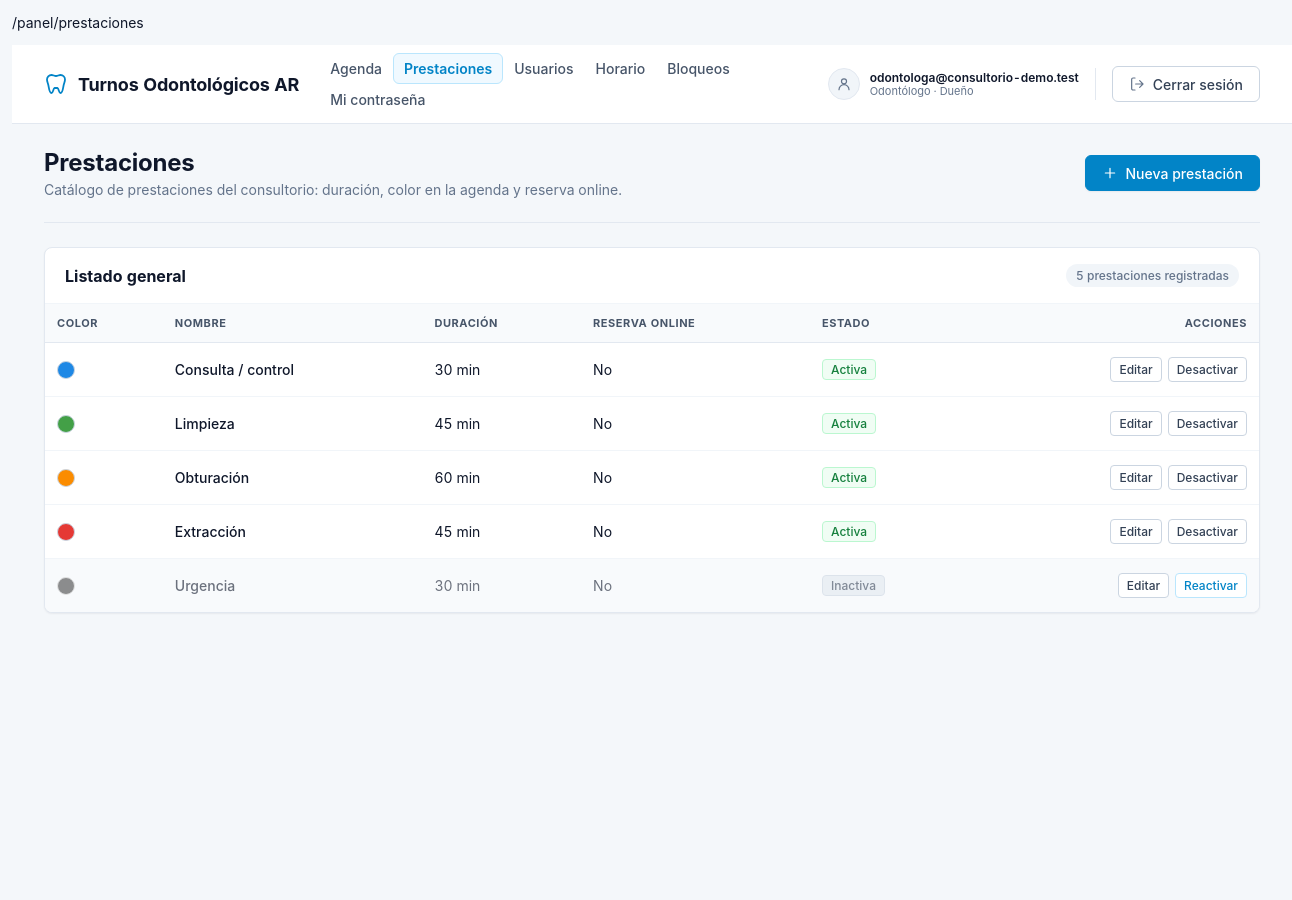
Test: PaginaPrestaciones: alta › US-001 CA-1: alta de Blanqueamiento agrega la fila y cierra el panel
Expected: the table is shown, [45,304,1259,612]
Step 1. Click the button "Nueva prestación" → (1172, 173), box [1084,155,1260,191]
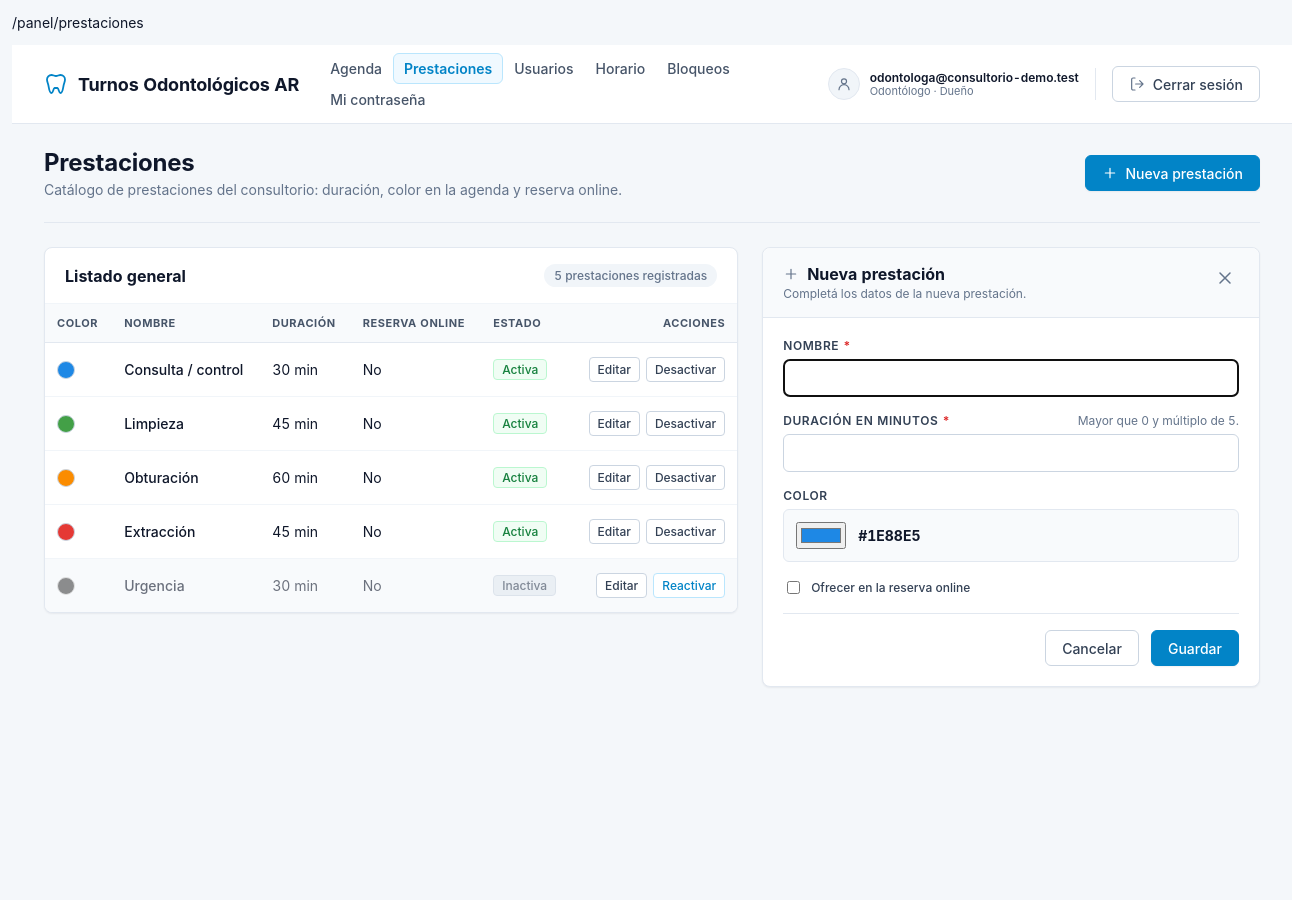
Step 2. Type "Blanqueamiento" into the field labelled "Nombre" → (1011, 378), box [783,359,1239,397]
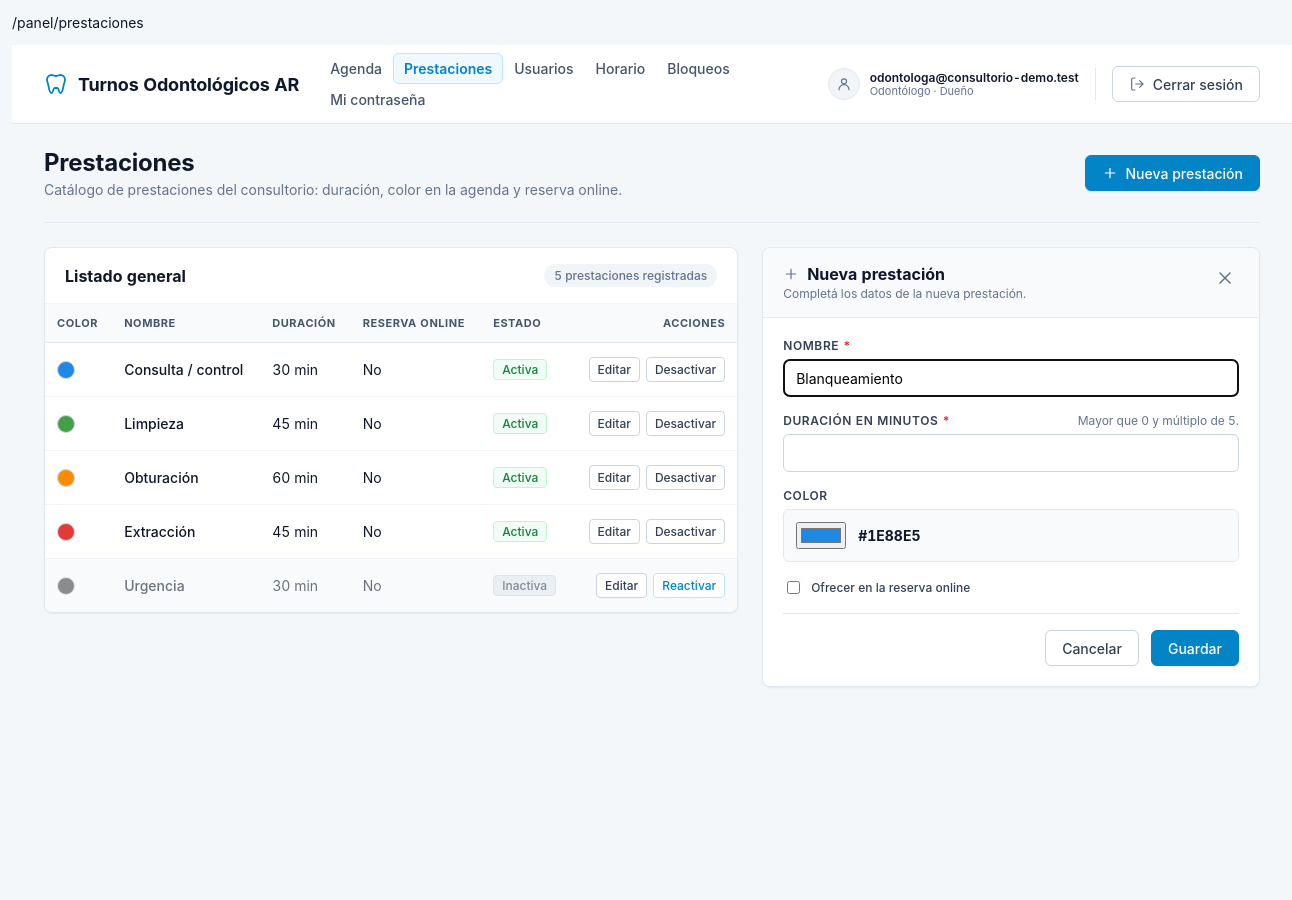
Step 3. Type "60" into the number field labelled "Duración en minutos" → (1011, 453), box [783,434,1239,472]
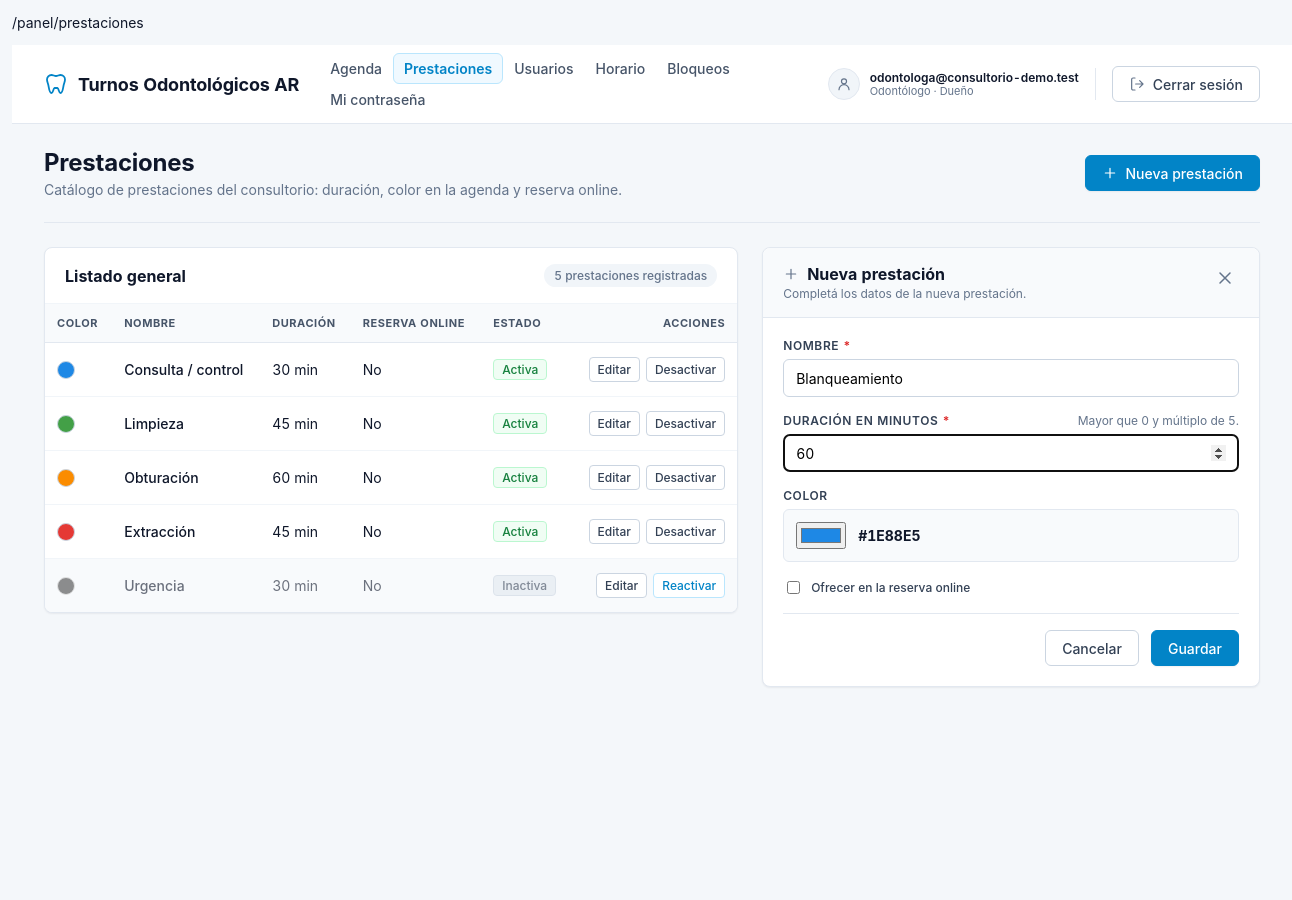
Step 4. Type "#3A7BD5" into the colour field labelled "Color" → (821, 536), box [796,522,846,549]
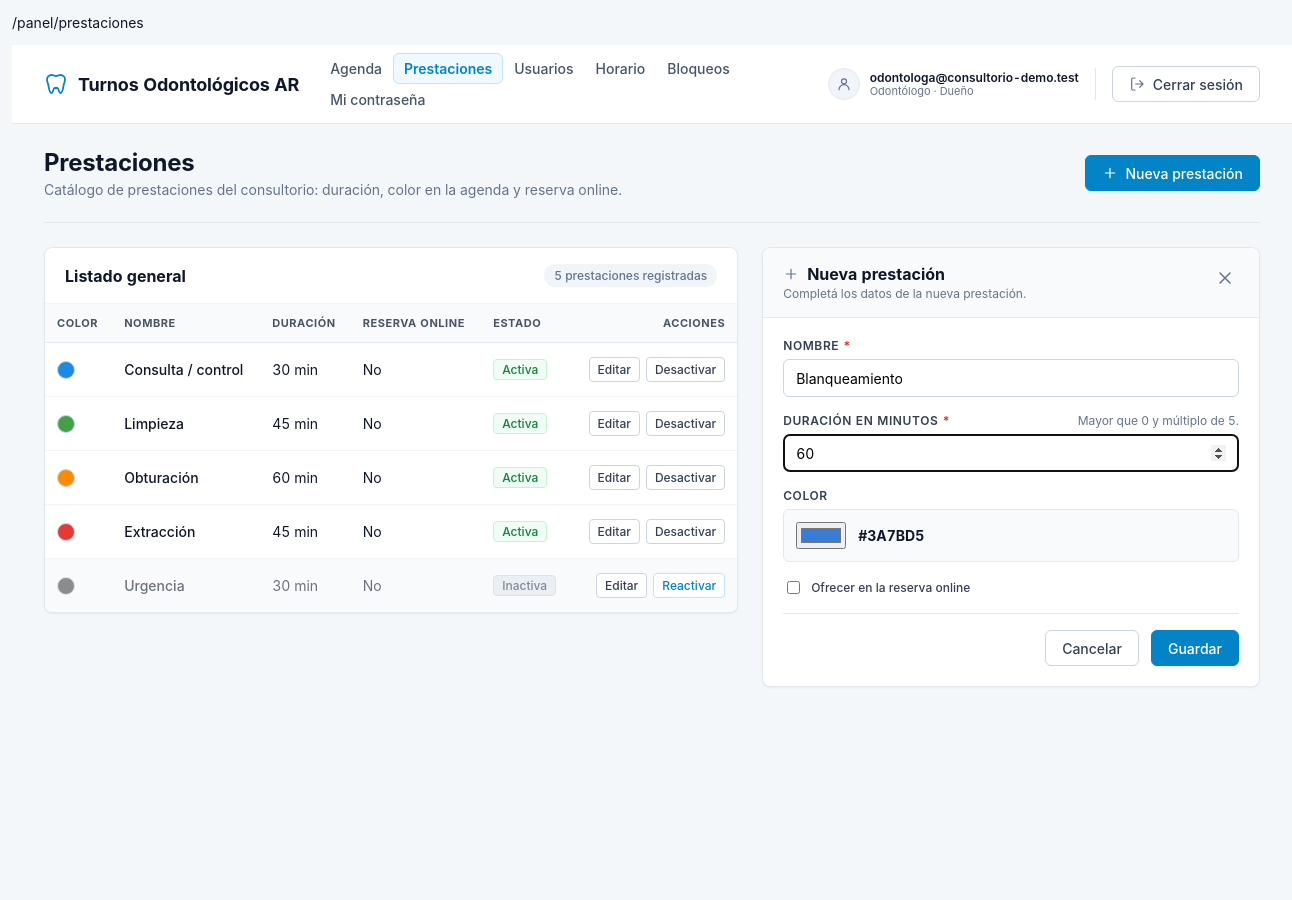
Step 5. Click the button "Guardar" → (1195, 648), box [1151,630,1239,666]
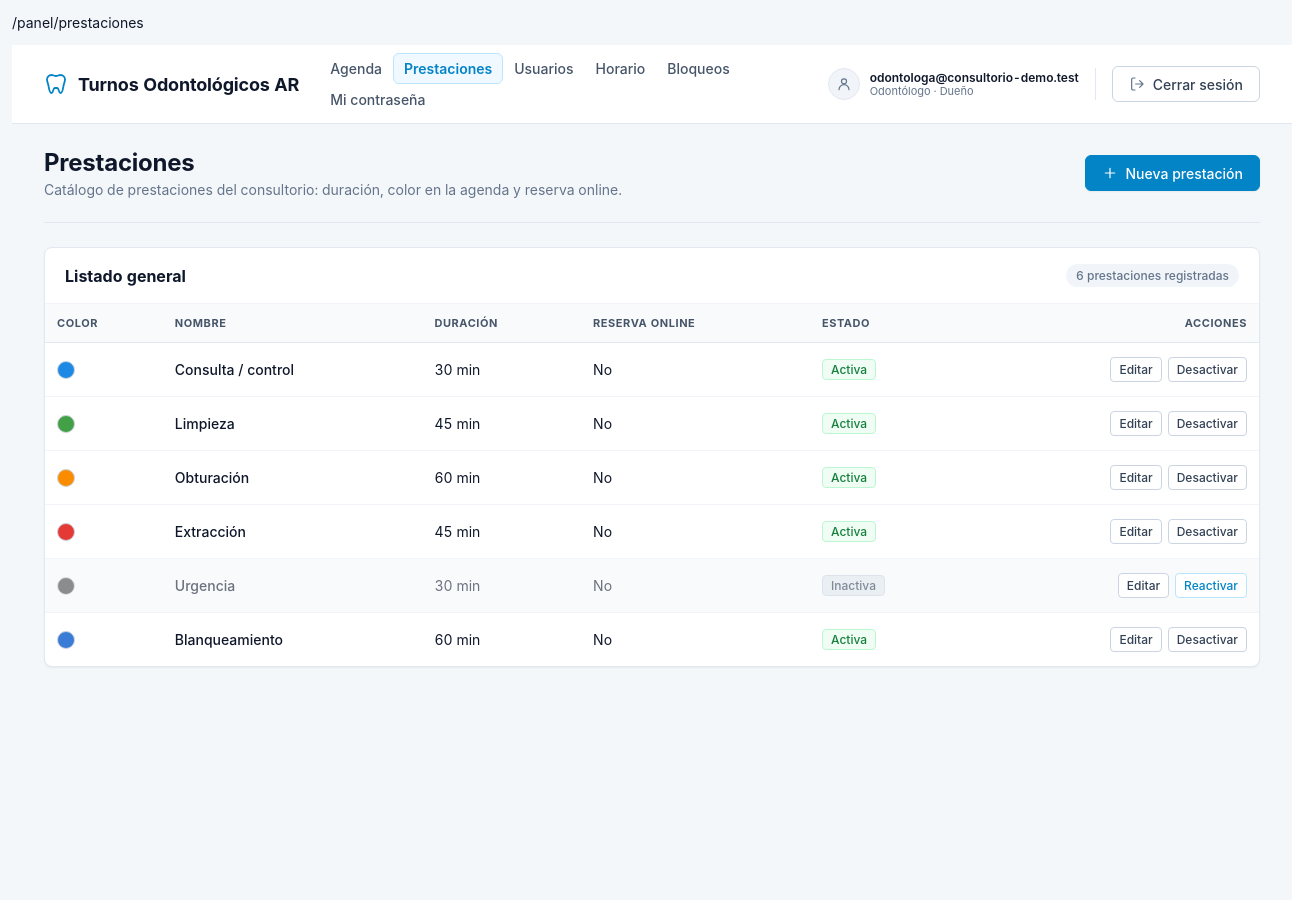
Now the text "60 min" next to "Blanqueamiento" is shown, box [422,612,581,666]
Now the text "Activa" in the row of "Blanqueamiento" is shown, box [831,632,867,647]
